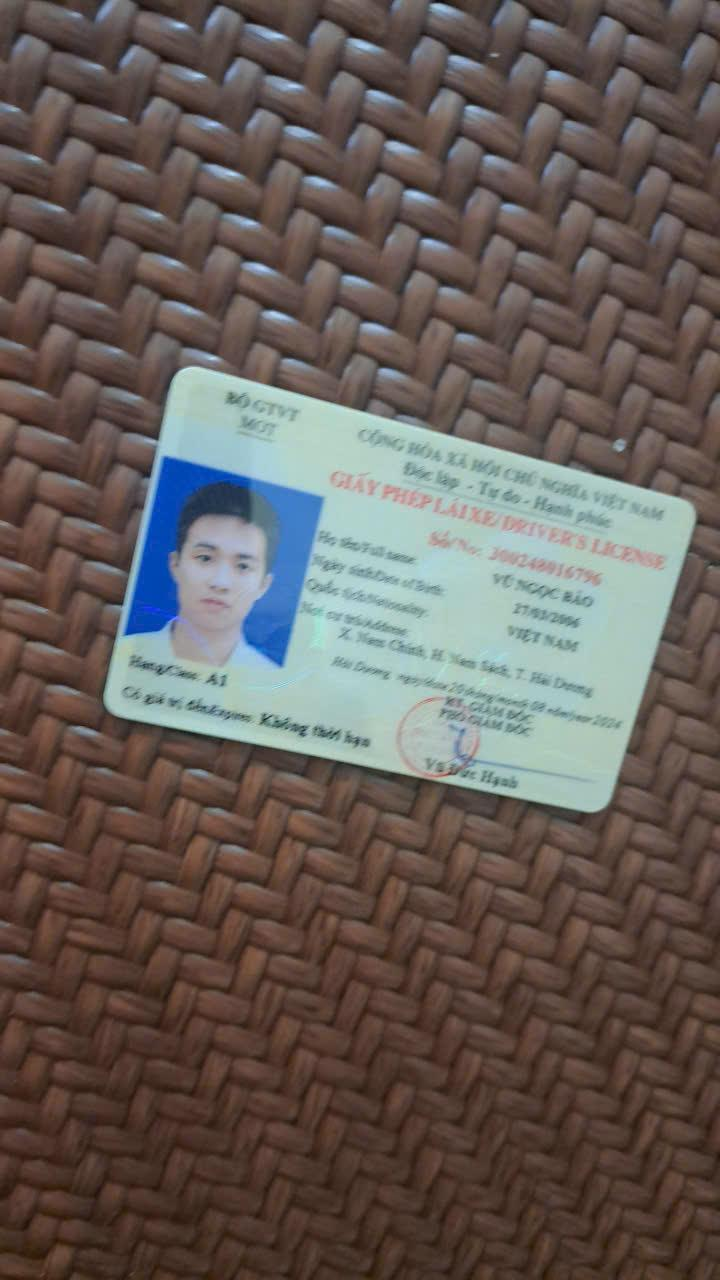gplx: (95, 358, 698, 823)
